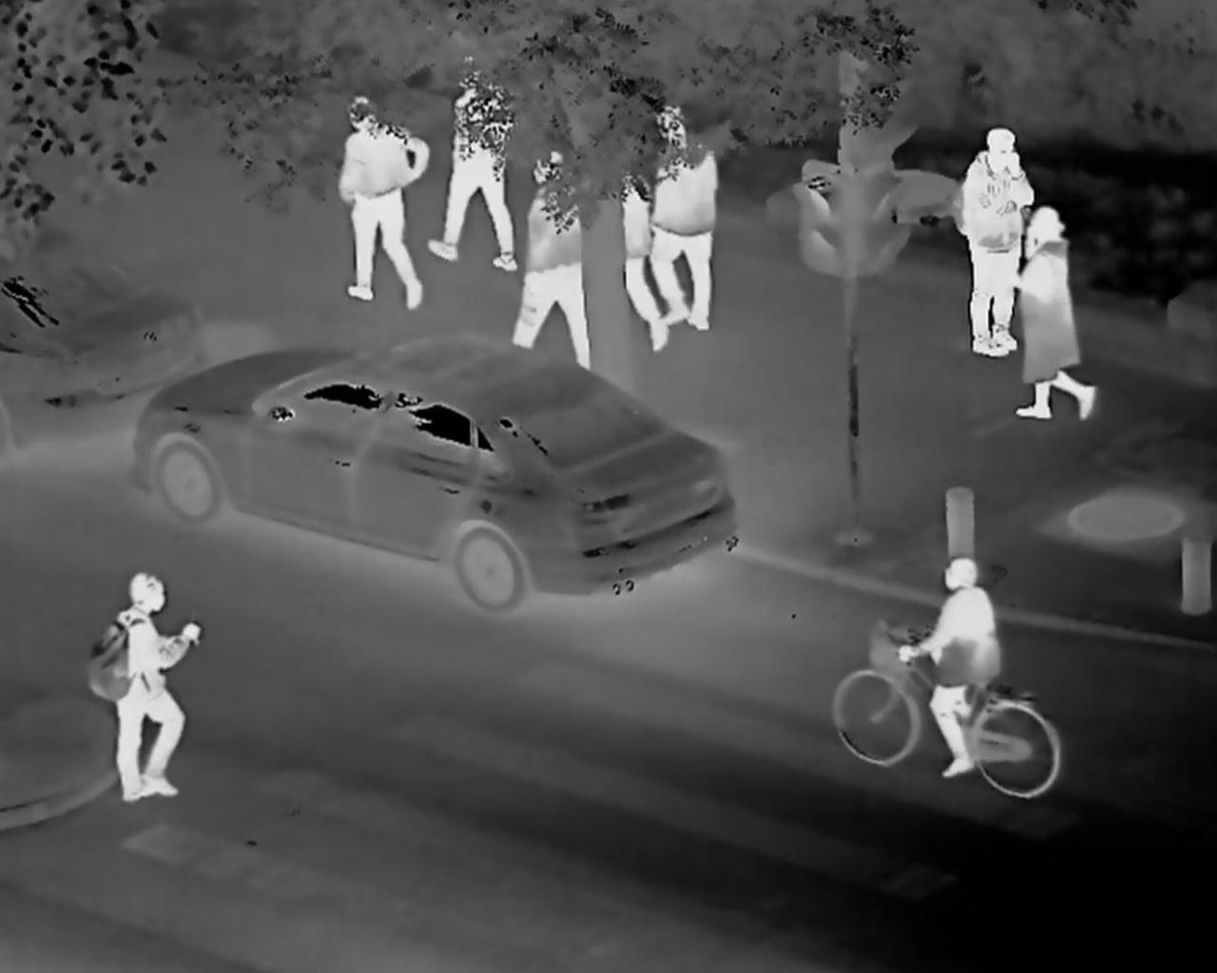person: (491, 151, 622, 377), (96, 562, 210, 817), (878, 555, 1002, 782), (331, 88, 436, 316), (641, 92, 731, 340), (430, 52, 524, 285), (1019, 204, 1102, 436), (589, 137, 673, 360), (954, 122, 1020, 356)
